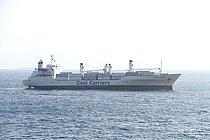Ship: (18, 50, 186, 97)
